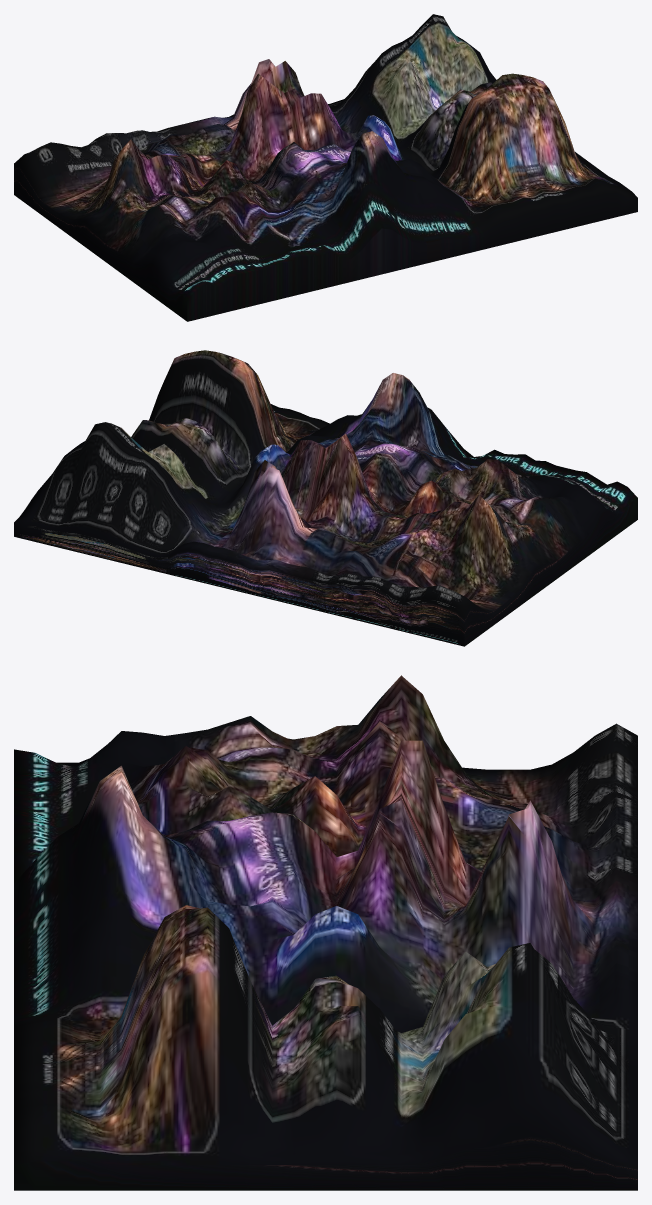
The model's file is BUSINESS_18_Flower_Shop.glb.
3 renders of one model, top to bottom at view 1: azimuth 30°, elevation 25°; view 2: azimuth 150°, elevation 25°; view 3: azimuth 270°, elevation 25°, orthographic. The views are drawn at different scales.
Parts seen in each view (by area): view 1: BUSINESS_18_Flower_Shop; view 2: BUSINESS_18_Flower_Shop; view 3: BUSINESS_18_Flower_Shop.
Part boxes in pixels (left/top/right/bottom): BUSINESS_18_Flower_Shop: left=14, top=14, right=637, bottom=321; BUSINESS_18_Flower_Shop: left=14, top=350, right=637, bottom=646; BUSINESS_18_Flower_Shop: left=14, top=675, right=637, bottom=1190.
Bounding box in the file's own units: 2 × 0.51 × 1.33.
Materials: 1 (1 with a texture image).
